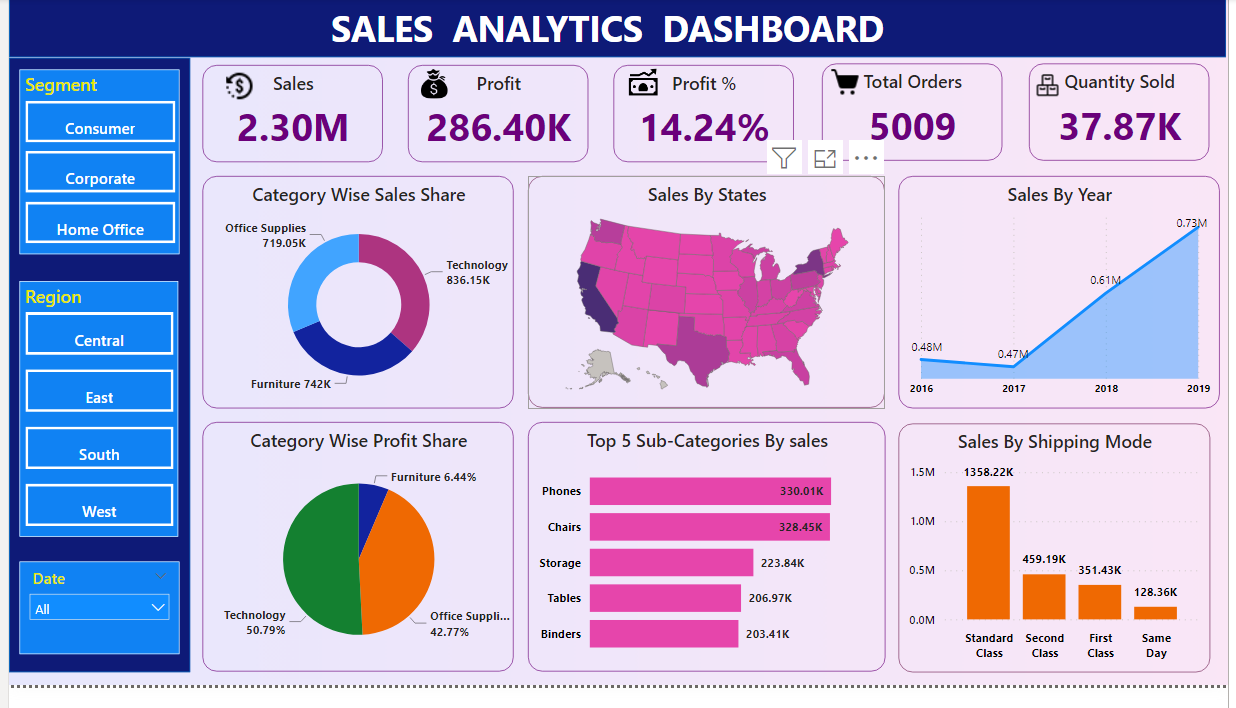

The page's visual inventory and layout, read from the dashboard file:
{"tool":"powerbi","page":{"name":"Page 1","canvas":[1280,720],"ordinal":0},"visuals":[{"type":"card","title":"Sales","fields":{"Values":["Sum(Orders.Sales)"]},"box":[203.9,69.6,189.3,101.9],"z":0},{"type":"card","title":"Profit %","fields":{"Values":["Orders.Profit%"]},"box":[634.2,69.8,189.1,101.8],"z":1000},{"type":"card","title":"Total Orders","fields":{"Values":["Orders.Total orders"]},"box":[853.8,68.4,189.1,101.8],"z":2000},{"type":"card","title":"Quantity Sold","fields":{"Values":["Sum(Orders.Quantity)"]},"box":[1071.1,68,189.3,101.9],"z":3000},{"type":"card","title":"Profit","fields":{"Values":["Sum(Orders.Profit)"]},"box":[418.9,69.8,189.1,101.8],"z":4000},{"type":"image","box":[203.9,69.6,77.7,43.7],"z":5000},{"type":"image","box":[415.8,68,61.5,43.7],"z":6000},{"type":"image","box":[632.6,66.3,64.7,45.3],"z":7000},{"type":"image","box":[843.6,66.9,68.4,42.2],"z":8000},{"type":"image","box":[1063,72.8,55,35.6],"z":9000},{"type":"donutChart","title":"Category Wise Sales Share","fields":{"Category":["Orders.Category"],"Y":["Sum(Orders.Sales)"]},"box":[203.9,186.1,326.8,244.3],"z":10000},{"type":"pieChart","title":"Category Wise Profit Share","fields":{"Series":["Orders.Category"],"Y":["Sum(Orders.Profit)"]},"box":[203.9,444.9,326.8,262.1],"z":11000},{"type":"areaChart","title":"Sales  By Year","fields":{"Category":["Orders.Year"],"Y":["Sum(Orders.Sales)"]},"box":[934,185.9,337.1,244.1],"z":12000},{"type":"clusteredBarChart","title":"Top 5 Sub-Categories By sales","fields":{"Category":["Orders.Sub-Category"],"Y":["Sum(Orders.Sales)"]},"box":[545.3,444.9,375.4,262.1],"z":13000},{"type":"shapeMap","title":"Sales By States","fields":{"Category":["Orders.State"],"Value":["Sum(Orders.Sales)"]},"box":[544.8,186.3,374.7,243],"z":14000},{"type":"clusteredColumnChart","title":"Sales By Shipping Mode","fields":{"Category":["Orders.Ship Mode"],"Y":["Sum(Orders.Sales)"]},"box":[934,446,327,261],"z":15000},{"type":"shape","box":[0,0,1278.2,61.5],"z":16000},{"type":"textbox","box":[158.6,0,938.4,69.6],"z":17000},{"type":"shape","box":[0,61.1,190.5,645.8],"z":18000},{"type":"advancedSlicerVisual","fields":{"Values":["Orders.Segment"]},"box":[11.3,74.4,168.3,194.2],"z":19000},{"type":"advancedSlicerVisual","fields":{"Values":["Orders.Region"]},"box":[11.3,296.1,166.7,268.6],"z":20000},{"type":"slicer","fields":{"Values":["Orders.Order Date.Variation.Date Hierarchy.Year","Orders.Order Date.Variation.Date Hierarchy.Quarter","Orders.Order Date.Variation.Date Hierarchy.Month","Orders.Order Date.Variation.Date Hierarchy.Day"]},"box":[11.3,590.6,168.3,97.1],"z":21000}]}

Visuals, with their boxes in screenshot pixels (x1, y1, x2, y2), scaled from the page's 1280x720 canvas onto the 1236x708 screenshot:
"Sales" card: x1=197 y1=68 x2=380 y2=169
"Profit %" card: x1=612 y1=69 x2=795 y2=169
"Total Orders" card: x1=824 y1=67 x2=1007 y2=167
"Quantity Sold" card: x1=1034 y1=67 x2=1217 y2=167
"Profit" card: x1=405 y1=69 x2=587 y2=169
image: x1=197 y1=68 x2=272 y2=111
image: x1=402 y1=67 x2=461 y2=110
image: x1=611 y1=65 x2=673 y2=110
image: x1=815 y1=66 x2=881 y2=107
image: x1=1026 y1=72 x2=1080 y2=107
"Category Wise Sales Share" donutChart: x1=197 y1=183 x2=512 y2=423
"Category Wise Profit Share" pieChart: x1=197 y1=437 x2=512 y2=695
"Sales  By Year" areaChart: x1=902 y1=183 x2=1227 y2=423
"Top 5 Sub-Categories By sales" clusteredBarChart: x1=527 y1=437 x2=889 y2=695
"Sales By States" shapeMap: x1=526 y1=183 x2=888 y2=422
"Sales By Shipping Mode" clusteredColumnChart: x1=902 y1=439 x2=1218 y2=695
shape: x1=0 y1=0 x2=1234 y2=60
textbox: x1=153 y1=0 x2=1059 y2=68
shape: x1=0 y1=60 x2=184 y2=695
advancedSlicerVisual - Orders.Segment: x1=11 y1=73 x2=173 y2=264
advancedSlicerVisual - Orders.Region: x1=11 y1=291 x2=172 y2=555
slicer - Orders.Order Date.Variation.Date Hierarchy.Year x Orders.Order Date.Variation.Date Hierarchy.Quarter: x1=11 y1=581 x2=173 y2=676
